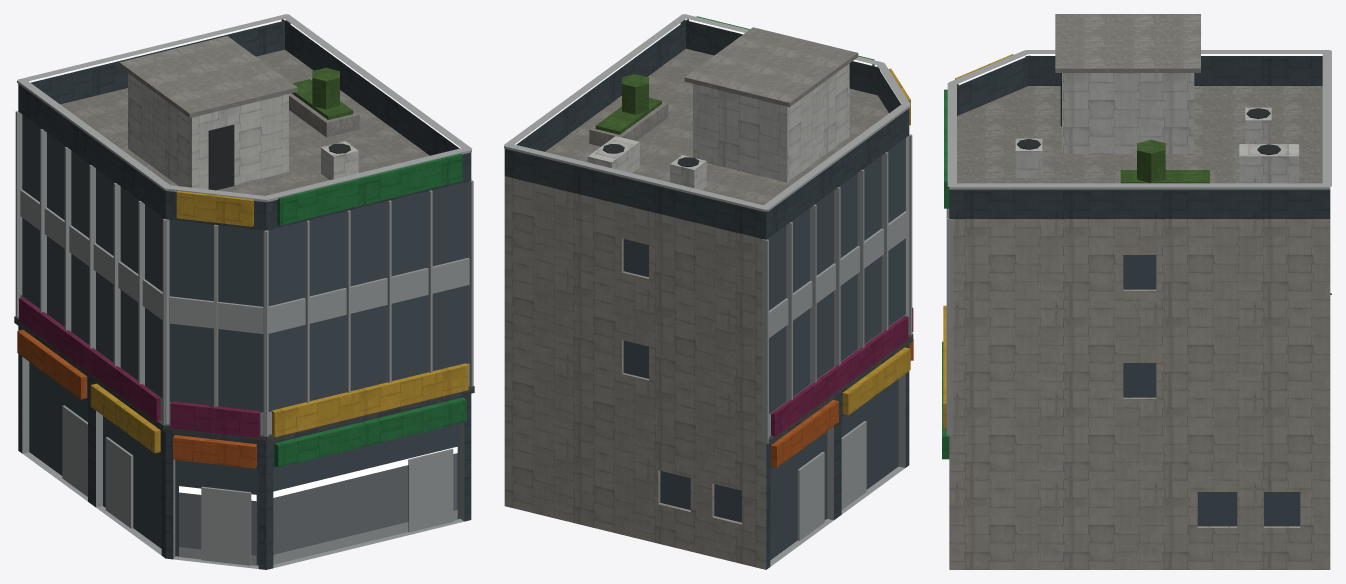
The model's file is seoul_commercial_00.glb.
3 views of the same model, side by side, from view 1: azimuth 30°, elevation 25°; view 2: azimuth 150°, elevation 25°; view 3: azimuth 270°, elevation 25° (orthographic). The views are drawn at different scales.
Visible parts, largest first — view 1: seoul_commercial_00_LOD0; view 2: seoul_commercial_00_LOD0; view 3: seoul_commercial_00_LOD0.
Boxes of the visible parts, x1,y1,x2,y2 form: seoul_commercial_00_LOD0: (14,14,474,569); seoul_commercial_00_LOD0: (504,14,913,569); seoul_commercial_00_LOD0: (942,14,1331,569).
Size of what is drawn, in the model's own units: 9.97 by 14.65 by 11.77.
Materials: 5 (2 with a texture image).
